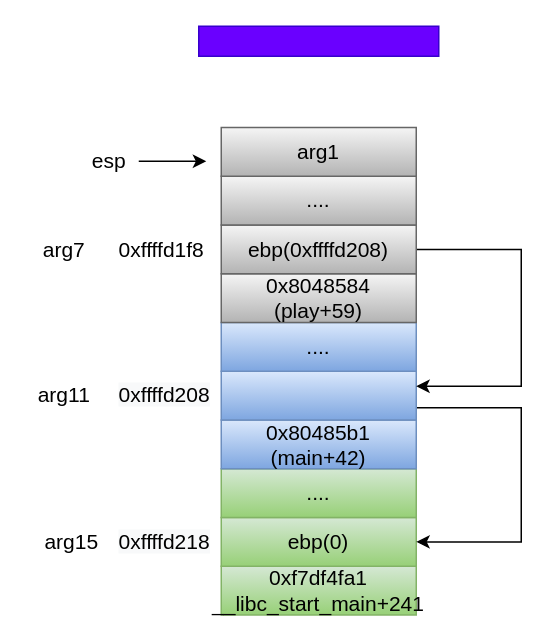
Image size: 560x642. Some labels were removed from this diagram. The box of each missing label's shape, as (x1, y1, x2, y2) in pixels:
ebp(0xffffd218): (220, 370, 416, 420)
main -> play -> do_fmt: (197, 25, 439, 56)
